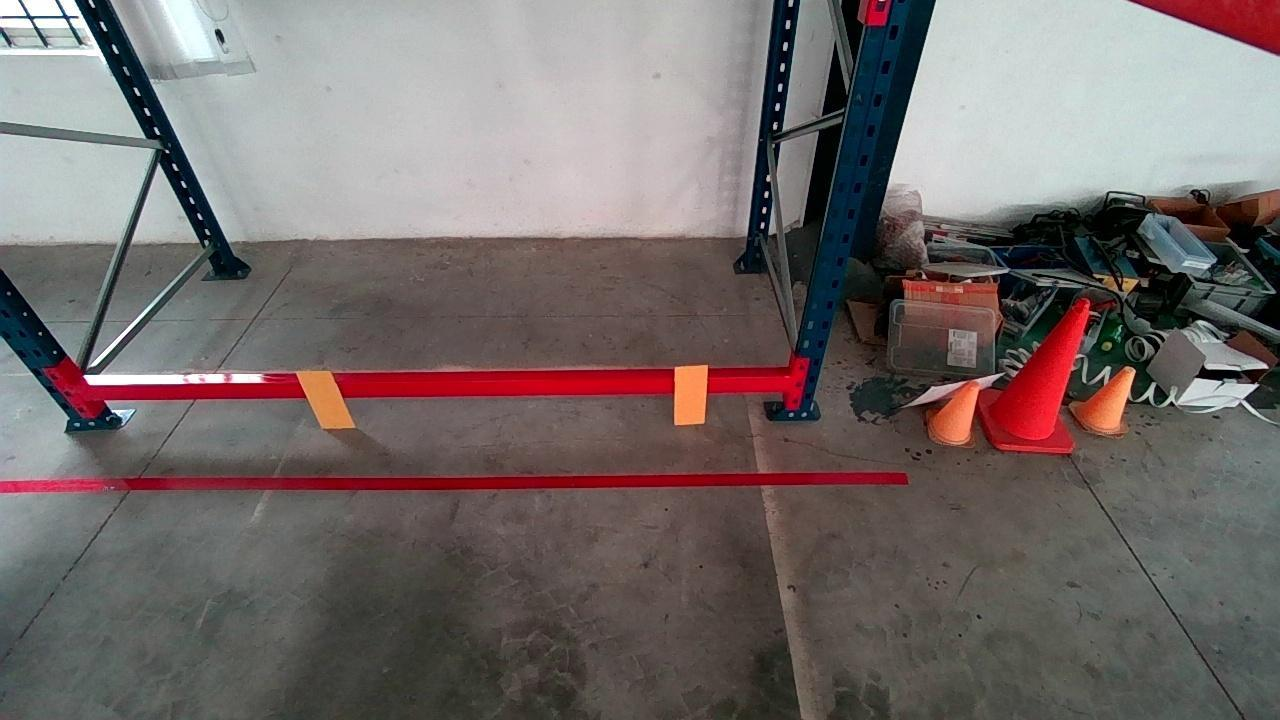h_rack: (86, 370, 788, 406)
orange_strip: (298, 370, 355, 428), (674, 364, 708, 423)
red_line: (14, 466, 905, 507)
